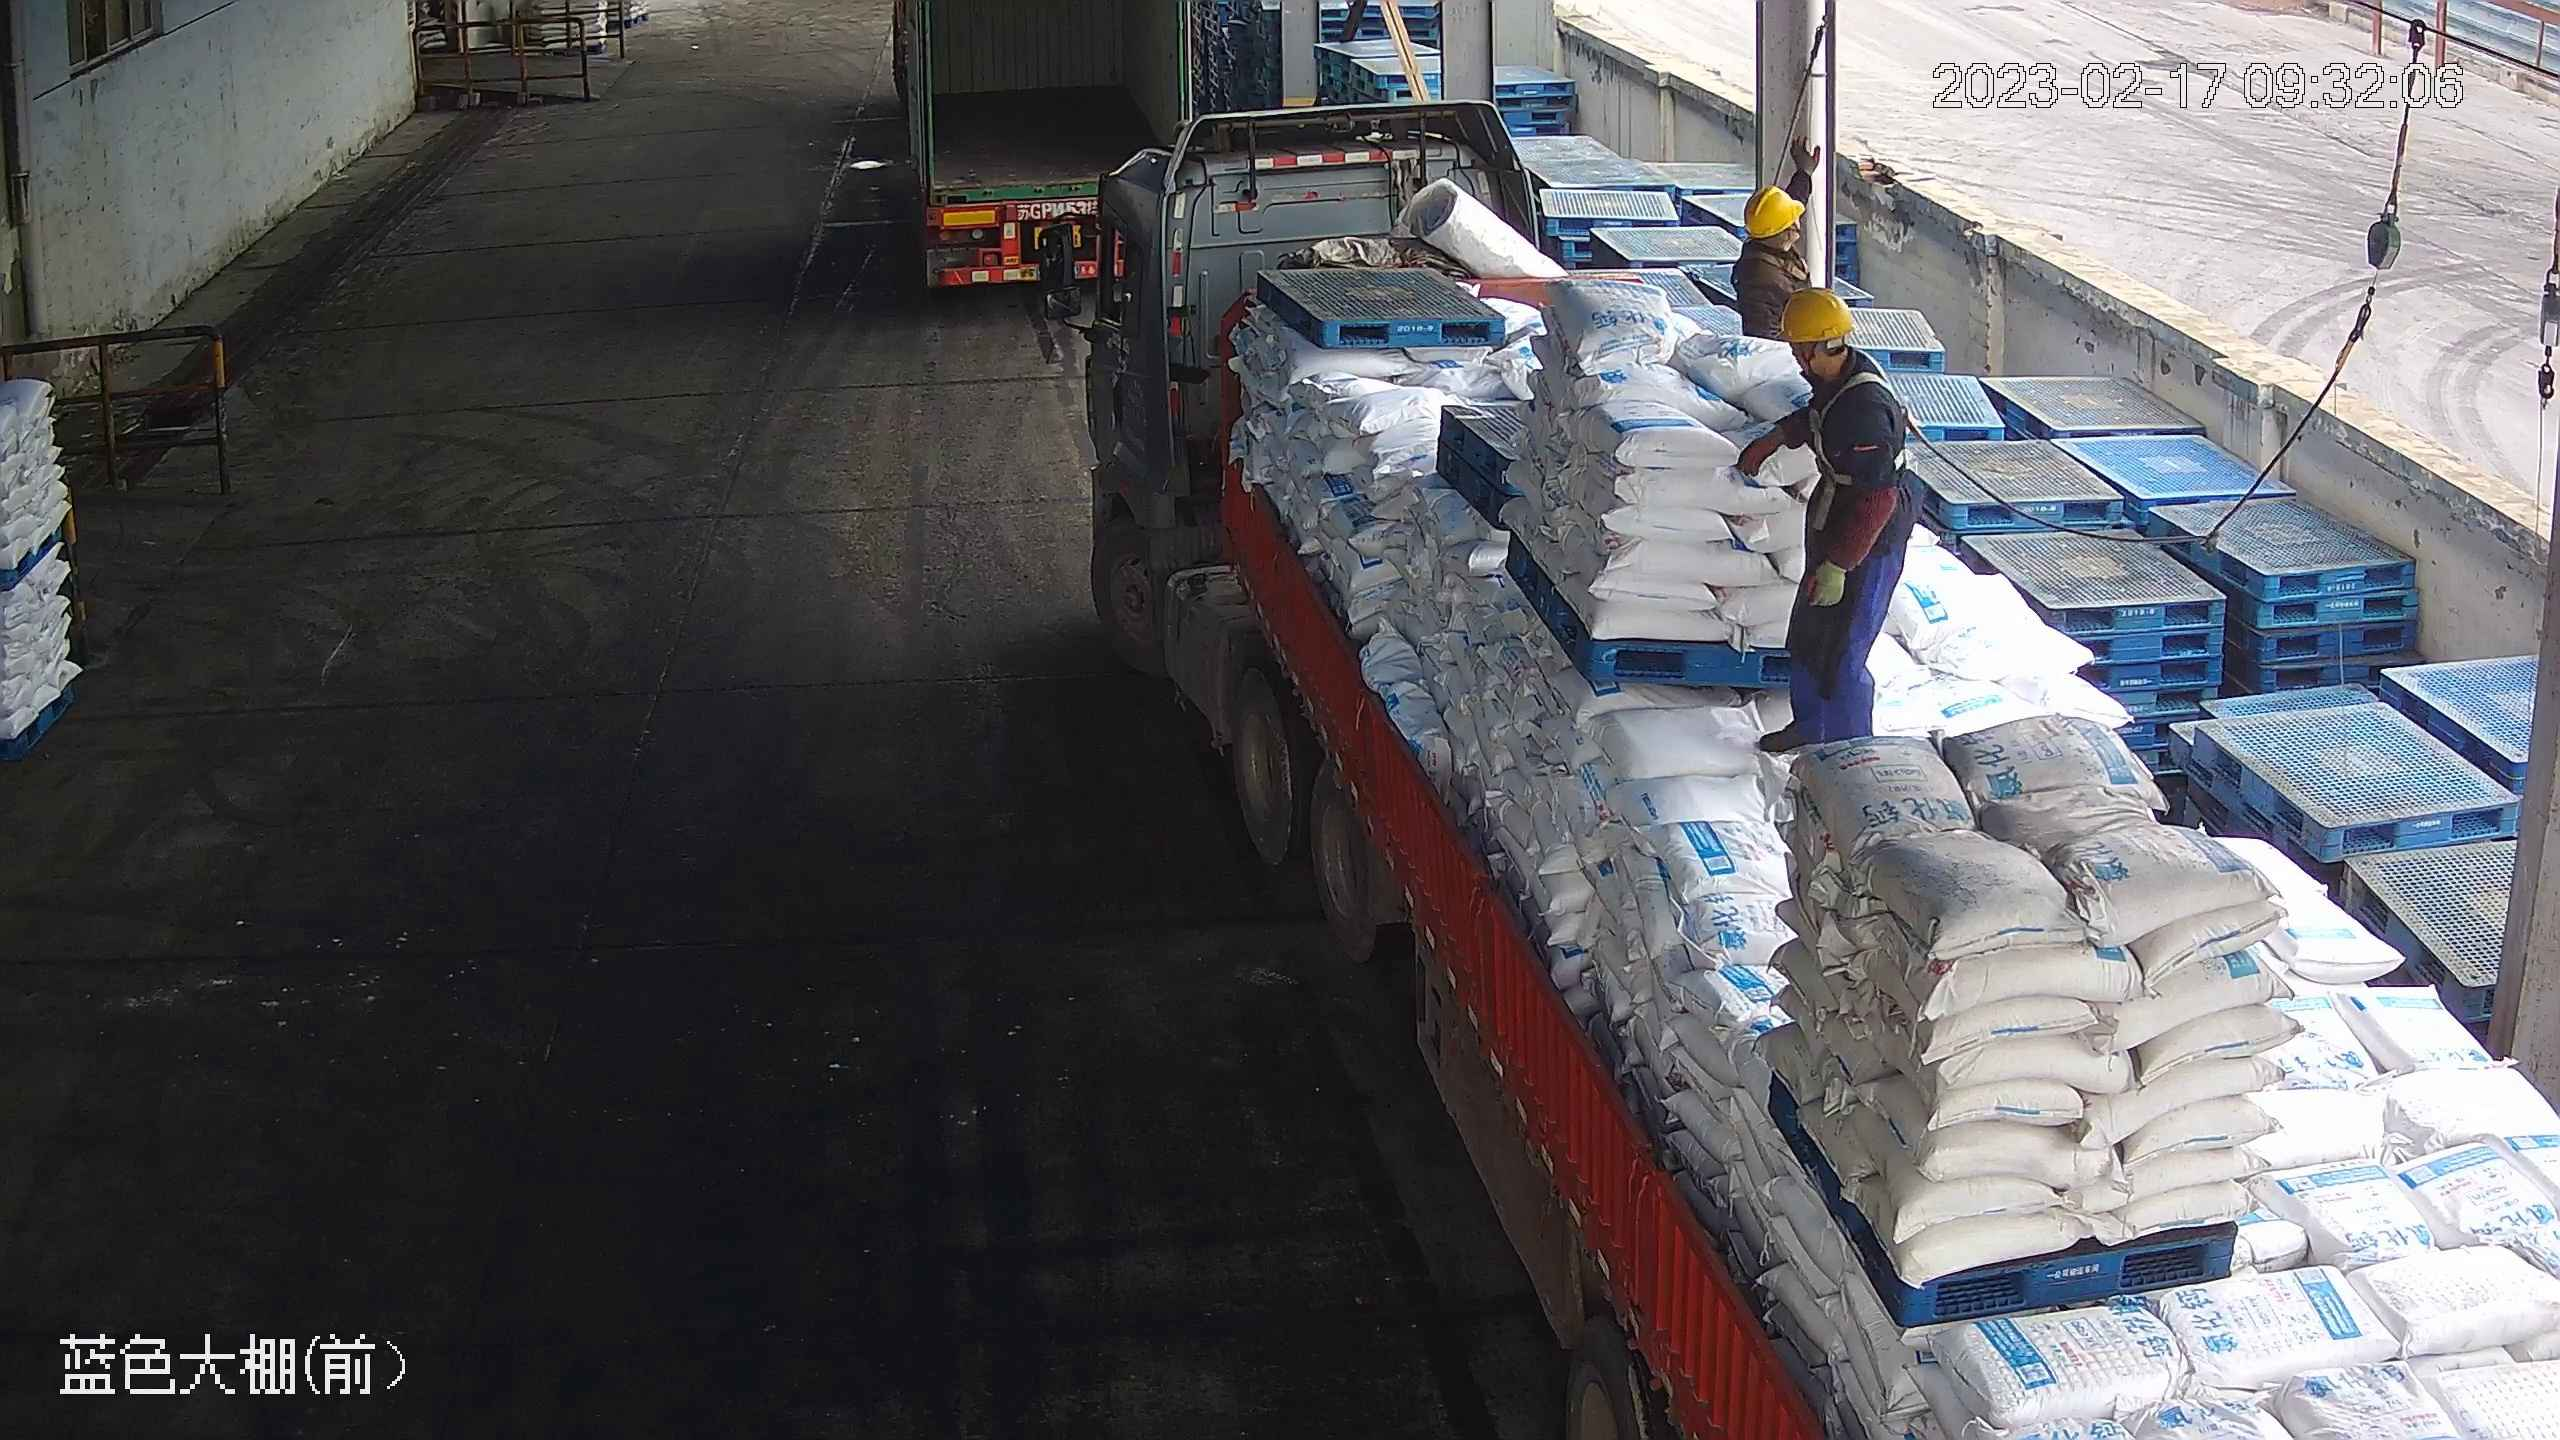belt: (1807, 349, 1912, 486), (1731, 248, 1810, 287)
head: (1777, 286, 1903, 423), (1734, 185, 1810, 282)
helmet: (1777, 285, 1853, 343), (1744, 184, 1806, 238)
people: (1736, 289, 1916, 758)
truck: (1075, 99, 2560, 1440)
